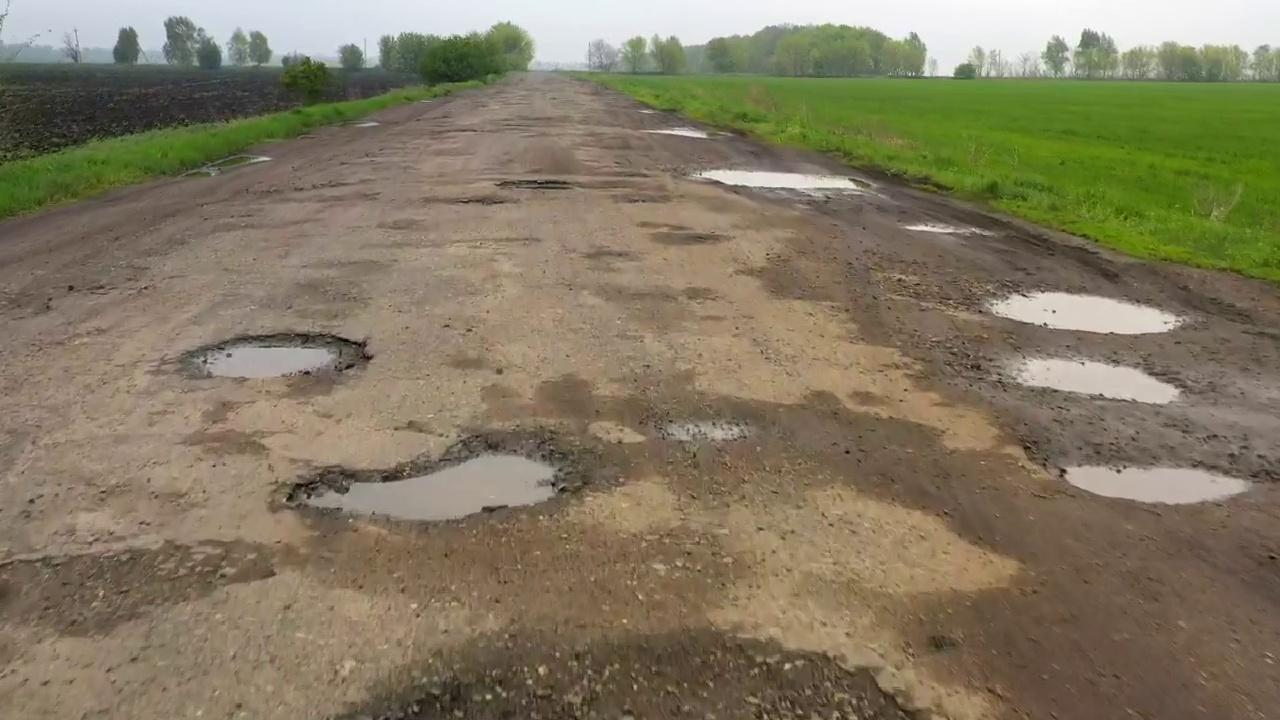bache: (336, 631, 915, 719), (286, 429, 590, 522), (180, 333, 370, 378), (987, 291, 1183, 333), (1011, 358, 1179, 403), (1065, 466, 1250, 503), (695, 169, 861, 191), (497, 179, 576, 190)
